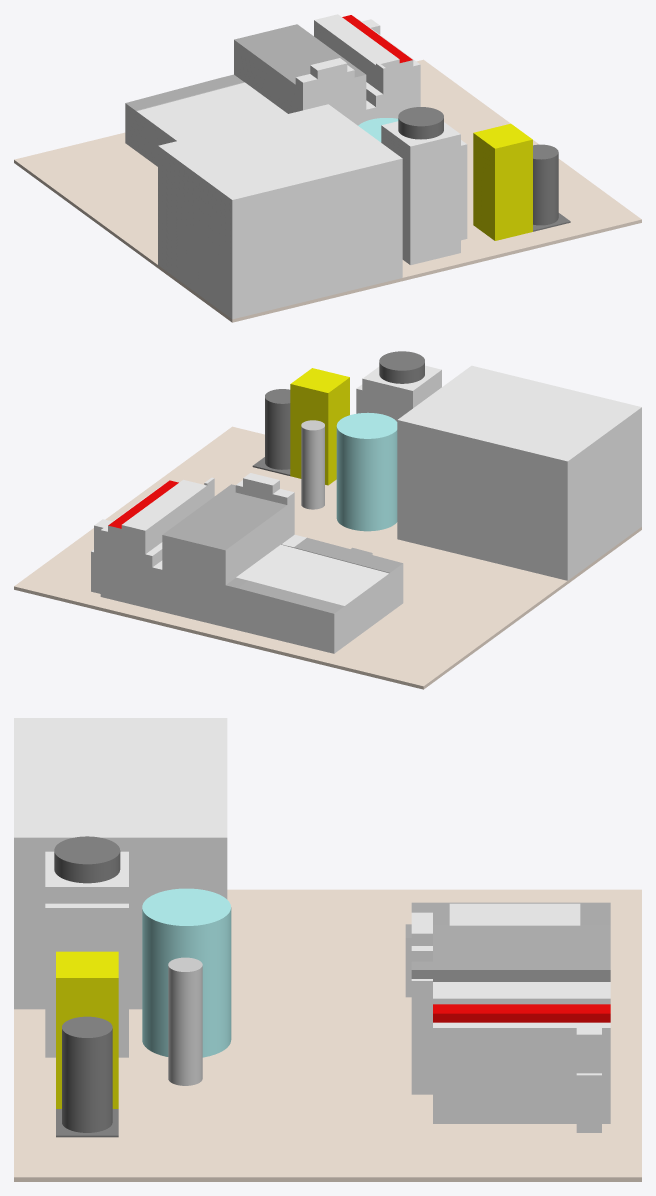
3 views of the same model, one above another, from view 1: azimuth 30°, elevation 25°; view 2: azimuth 150°, elevation 25°; view 3: azimuth 270°, elevation 25° (orthographic). The views are drawn at different scales.
Visible parts, largest first — view 1: 098781e3-6ce5-488d-bd1b-07d13c9d7ec2, d2c385a0-0330-412c-9eab-3d234972902a, 80e975bf-19f4-426c-b267-e42a93657c8c, 26e7f95b-9995-4499-bff0-e9e2543f28d1, dd5191e6-07e6-4ec8-b7ff-73b5704995c5, 3a1e376e-58eb-47c7-b67c-1fd272affbac, 021f6c41-31c2-476d-9617-cfc74a23950f, ba55c3a6-6530-43e4-a173-13b30e607450, 8e257df4-a86b-41f1-9f4a-210a158b4271, 3e19d439-13e4-46bf-9f65-49769895c805, b1036f3a-e570-4318-928e-890bcccc2875; view 2: 098781e3-6ce5-488d-bd1b-07d13c9d7ec2, d2c385a0-0330-412c-9eab-3d234972902a, 80e975bf-19f4-426c-b267-e42a93657c8c, b1036f3a-e570-4318-928e-890bcccc2875, 3a1e376e-58eb-47c7-b67c-1fd272affbac, dd5191e6-07e6-4ec8-b7ff-73b5704995c5, 26e7f95b-9995-4499-bff0-e9e2543f28d1, 1c4738f0-94a3-4f9b-84cd-83befa435ed8, 021f6c41-31c2-476d-9617-cfc74a23950f, ba55c3a6-6530-43e4-a173-13b30e607450, 3e19d439-13e4-46bf-9f65-49769895c805; view 3: d2c385a0-0330-412c-9eab-3d234972902a, 098781e3-6ce5-488d-bd1b-07d13c9d7ec2, 80e975bf-19f4-426c-b267-e42a93657c8c, 3a1e376e-58eb-47c7-b67c-1fd272affbac, b1036f3a-e570-4318-928e-890bcccc2875, 8e257df4-a86b-41f1-9f4a-210a158b4271, 021f6c41-31c2-476d-9617-cfc74a23950f, dd5191e6-07e6-4ec8-b7ff-73b5704995c5, 1c4738f0-94a3-4f9b-84cd-83befa435ed8, 3e19d439-13e4-46bf-9f65-49769895c805, 26e7f95b-9995-4499-bff0-e9e2543f28d1, ba55c3a6-6530-43e4-a173-13b30e607450 (+1 smaller).
Boxes of the visible parts, <box> form: 098781e3-6ce5-488d-bd1b-07d13c9d7ec2: <box>158,104,402,319</box>; d2c385a0-0330-412c-9eab-3d234972902a: <box>14,59,641,322</box>; 80e975bf-19f4-426c-b267-e42a93657c8c: <box>125,14,420,166</box>; 26e7f95b-9995-4499-bff0-e9e2543f28d1: <box>381,121,460,265</box>; dd5191e6-07e6-4ec8-b7ff-73b5704995c5: <box>473,123,532,240</box>; 3a1e376e-58eb-47c7-b67c-1fd272affbac: <box>125,24,365,110</box>; 021f6c41-31c2-476d-9617-cfc74a23950f: <box>533,144,558,225</box>; ba55c3a6-6530-43e4-a173-13b30e607450: <box>398,107,443,139</box>; 8e257df4-a86b-41f1-9f4a-210a158b4271: <box>461,140,467,240</box>; 3e19d439-13e4-46bf-9f65-49769895c805: <box>342,15,412,62</box>; b1036f3a-e570-4318-928e-890bcccc2875: <box>358,118,398,142</box>; 098781e3-6ce5-488d-bd1b-07d13c9d7ec2: <box>397,365,641,580</box>; d2c385a0-0330-412c-9eab-3d234972902a: <box>14,426,641,689</box>; 80e975bf-19f4-426c-b267-e42a93657c8c: <box>91,473,403,653</box>; b1036f3a-e570-4318-928e-890bcccc2875: <box>336,412,397,531</box>; 3a1e376e-58eb-47c7-b67c-1fd272affbac: <box>162,484,402,613</box>; dd5191e6-07e6-4ec8-b7ff-73b5704995c5: <box>290,368,349,485</box>; 26e7f95b-9995-4499-bff0-e9e2543f28d1: <box>362,365,441,421</box>; 1c4738f0-94a3-4f9b-84cd-83befa435ed8: <box>301,420,324,509</box>; 021f6c41-31c2-476d-9617-cfc74a23950f: <box>265,389,290,469</box>; ba55c3a6-6530-43e4-a173-13b30e607450: <box>379,351,424,383</box>; 3e19d439-13e4-46bf-9f65-49769895c805: <box>108,480,178,528</box>; d2c385a0-0330-412c-9eab-3d234972902a: <box>14,889,641,1181</box>; 098781e3-6ce5-488d-bd1b-07d13c9d7ec2: <box>14,718,227,1009</box>; 80e975bf-19f4-426c-b267-e42a93657c8c: <box>405,902,610,1132</box>; 3a1e376e-58eb-47c7-b67c-1fd272affbac: <box>405,902,610,981</box>; b1036f3a-e570-4318-928e-890bcccc2875: <box>142,888,231,1057</box>; 8e257df4-a86b-41f1-9f4a-210a158b4271: <box>45,903,128,1043</box>; 021f6c41-31c2-476d-9617-cfc74a23950f: <box>62,1016,112,1132</box>; dd5191e6-07e6-4ec8-b7ff-73b5704995c5: <box>56,951,118,1108</box>; 1c4738f0-94a3-4f9b-84cd-83befa435ed8: <box>168,957,202,1085</box>; 3e19d439-13e4-46bf-9f65-49769895c805: <box>433,1004,610,1022</box>; 26e7f95b-9995-4499-bff0-e9e2543f28d1: <box>45,851,128,1057</box>; ba55c3a6-6530-43e4-a173-13b30e607450: <box>54,836,120,883</box>.
Bounding box in the file's own units: 6.5 × 2.05 × 6.
